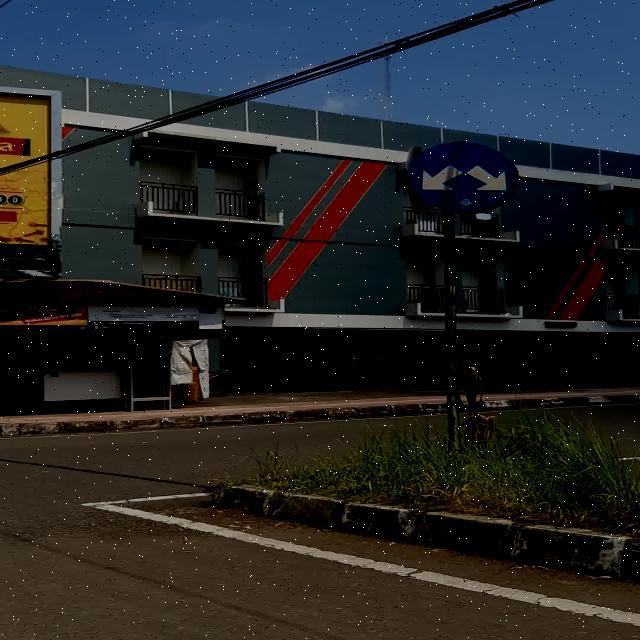Pilih Salah Satu Jalur: (408, 141, 519, 211)
